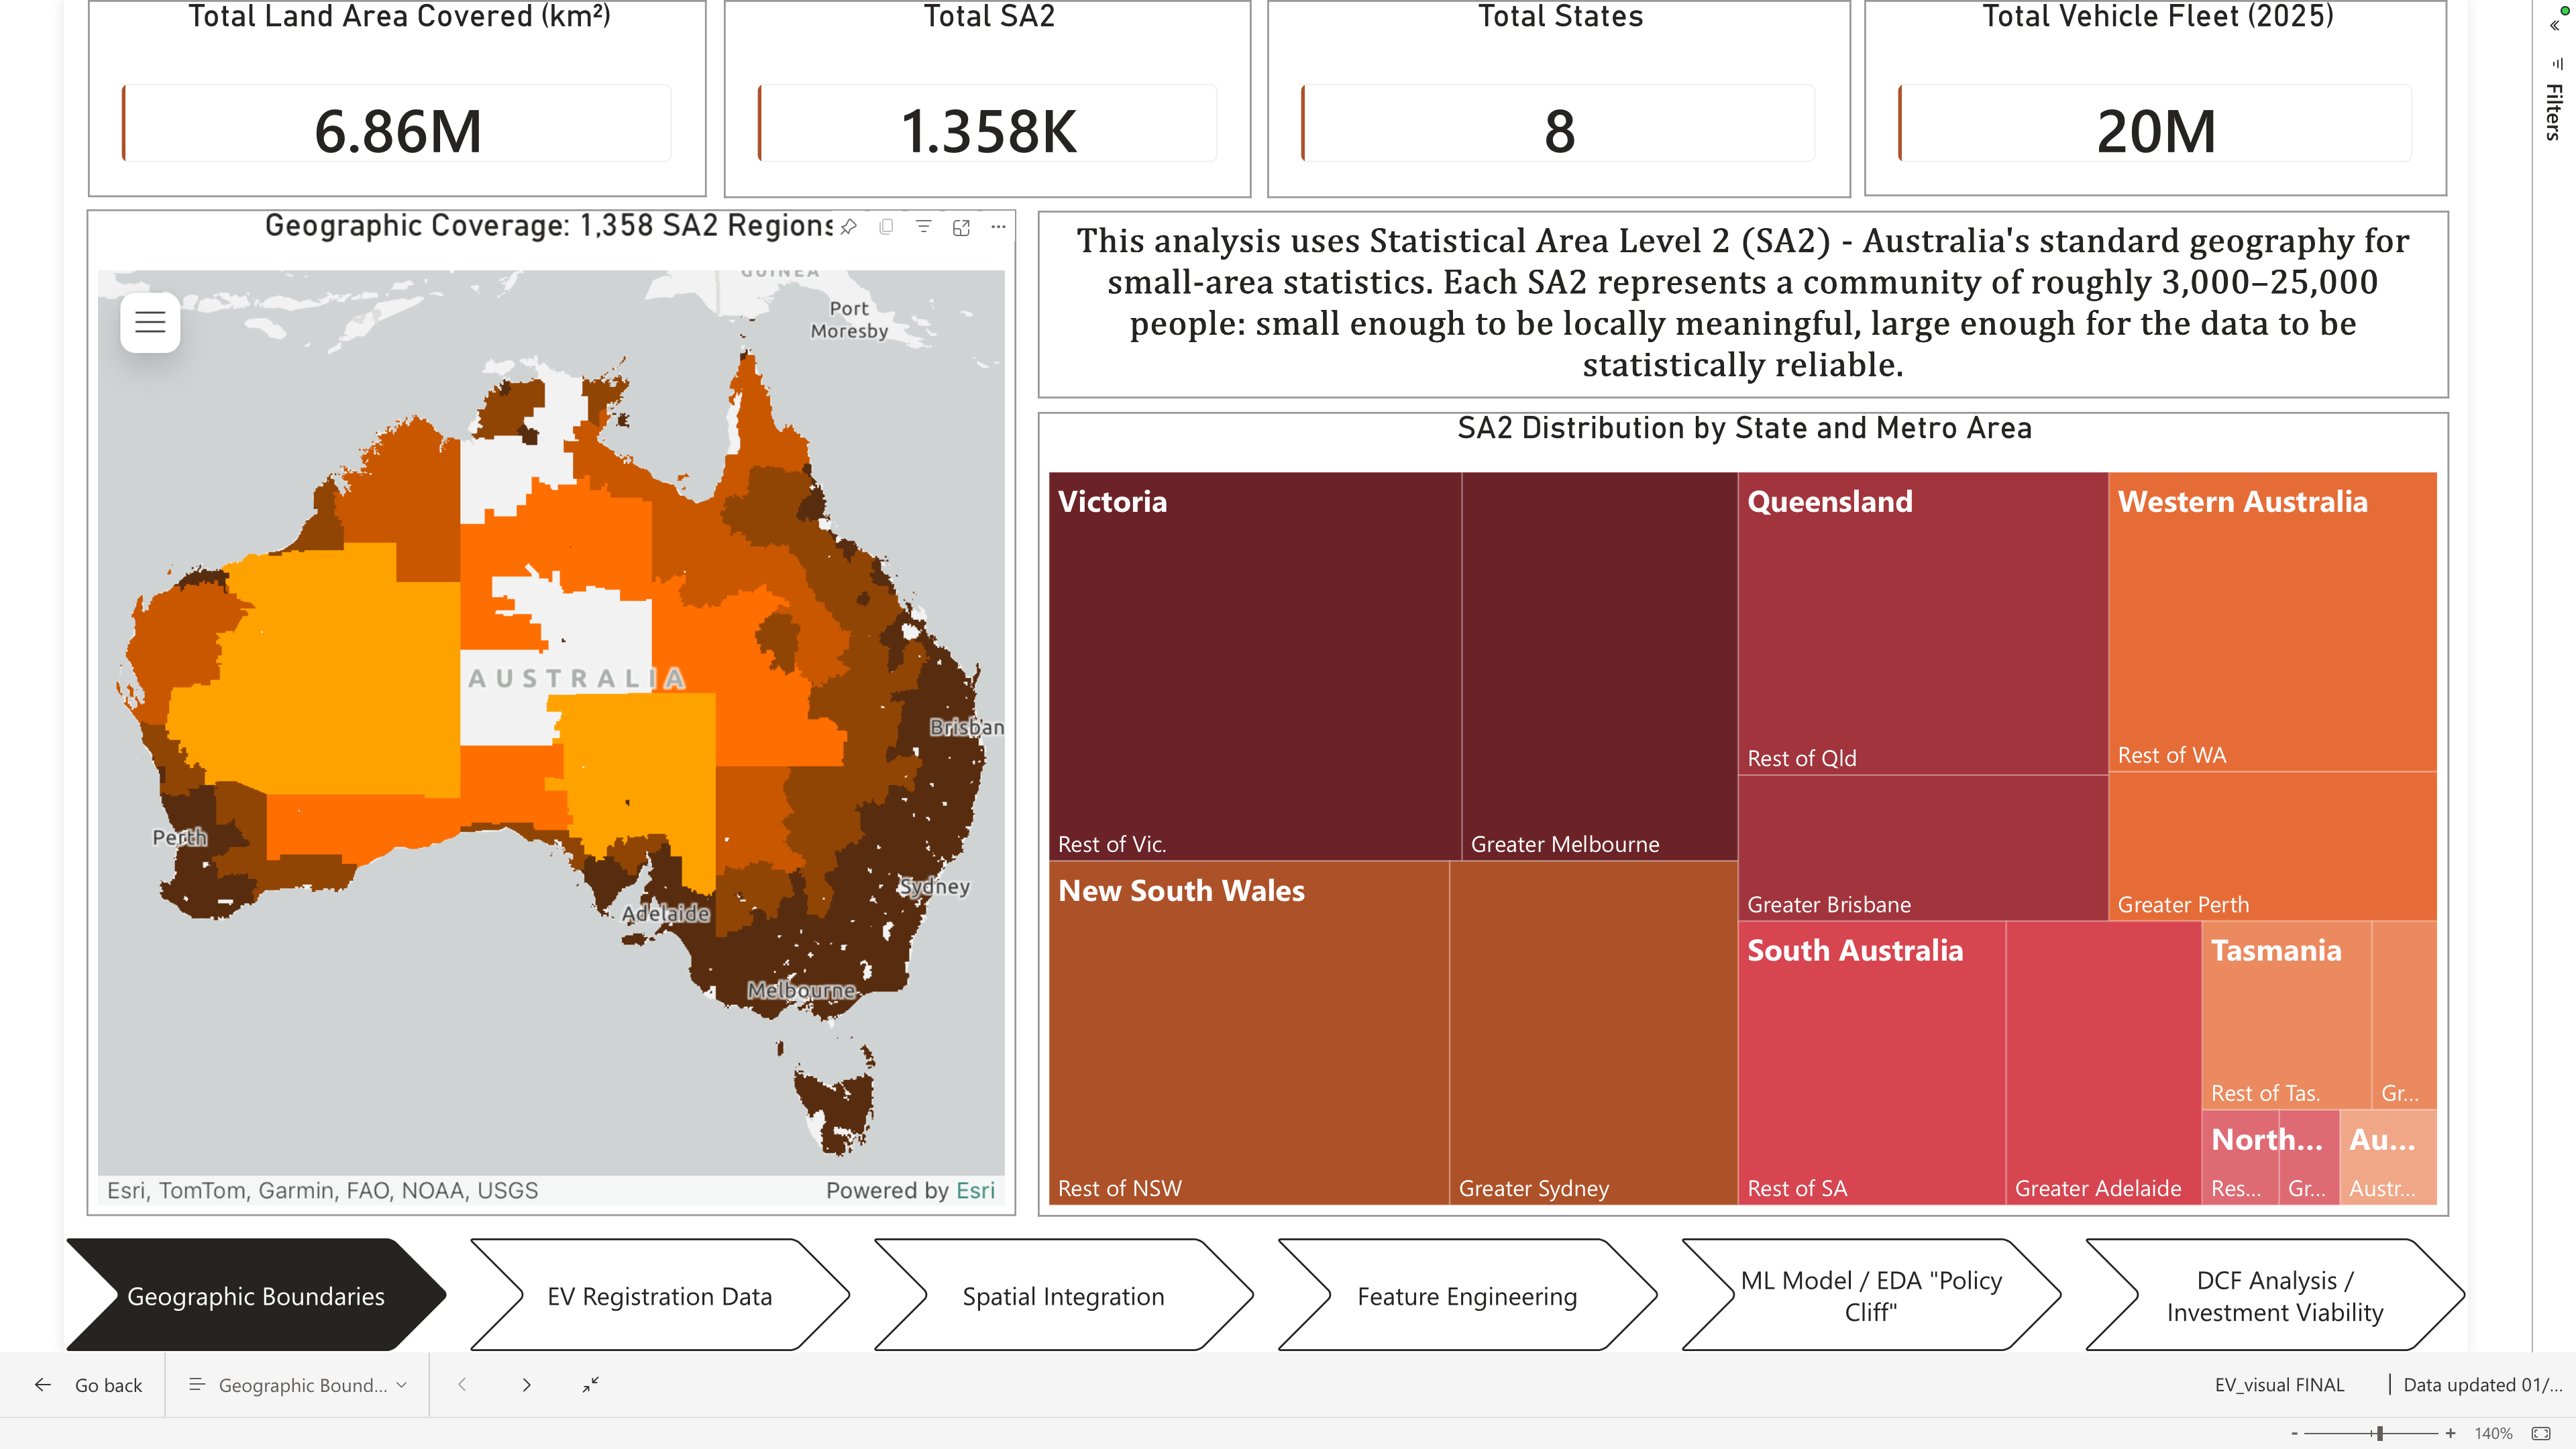

This screenshot's page, from the dashboard's own definition file:
{"tool":"powerbi","page":{"name":"Geographic Boundaries","canvas":[1280,720],"ordinal":0},"visuals":[{"type":"pageNavigator","box":[0,659.4,1280,60.6],"z":0},{"type":"cardVisual","title":"Total Land Area Covered (km²)","fields":{"Data":["ev_master_charging.Total Area - SA2 with EV Chargers (km²)"]},"box":[12.6,0,329.5,105],"z":1000},{"type":"cardVisual","title":"Total SA2","fields":{"Data":["ev_master_charging.Total SA2"]},"box":[351.5,0,281,105.3],"z":2000},{"type":"cardVisual","title":"Total States","fields":{"Data":["ev_master_charging.Total States"]},"box":[640.5,0,310.8,105.3],"z":3000},{"type":"esriVisual","title":"Geographic Coverage: 1,358 SA2 Regions","fields":{"Location":["ev_master_charging.SA2_CODE21"],"Color":["Max(ev_master_charging.AREASQKM21)"]},"box":[12.2,111.5,494.9,536.1],"z":4000},{"type":"textbox","box":[518.3,112,751.3,100.1],"z":5000},{"type":"treemap","title":"SA2 Distribution by State and Metro Area","fields":{"Details":["ev_master_charging.GCC_NAME21"],"Group":["ev_master_charging.STE_NAME21"],"Values":["CountNonNull(ev_master_charging.SA2_CODE21)"]},"box":[518.3,219.6,751.3,428.7],"z":6000},{"type":"cardVisual","title":"Total Vehicle Fleet (2025)","fields":{"Data":["Sum(ev_master_charging.total_fleet)"]},"box":[958.9,0,310.7,104.6],"z":7000}]}

Visuals, with their boxes on the page's 1280x720 design canvas (x1, y1, x2, y2). These are canvas units, not pixel positions in the 2576x1449 screenshot, which may show the page scaled, cropped or inside an application window:
pageNavigator: rect(0, 659, 1280, 720)
"Total Land Area Covered (km²)" cardVisual: rect(13, 0, 342, 105)
"Total SA2" cardVisual: rect(352, 0, 632, 105)
"Total States" cardVisual: rect(640, 0, 951, 105)
"Geographic Coverage: 1,358 SA2 Regions" esriVisual: rect(12, 112, 507, 648)
textbox: rect(518, 112, 1270, 212)
"SA2 Distribution by State and Metro Area" treemap: rect(518, 220, 1270, 648)
"Total Vehicle Fleet (2025)" cardVisual: rect(959, 0, 1270, 105)
